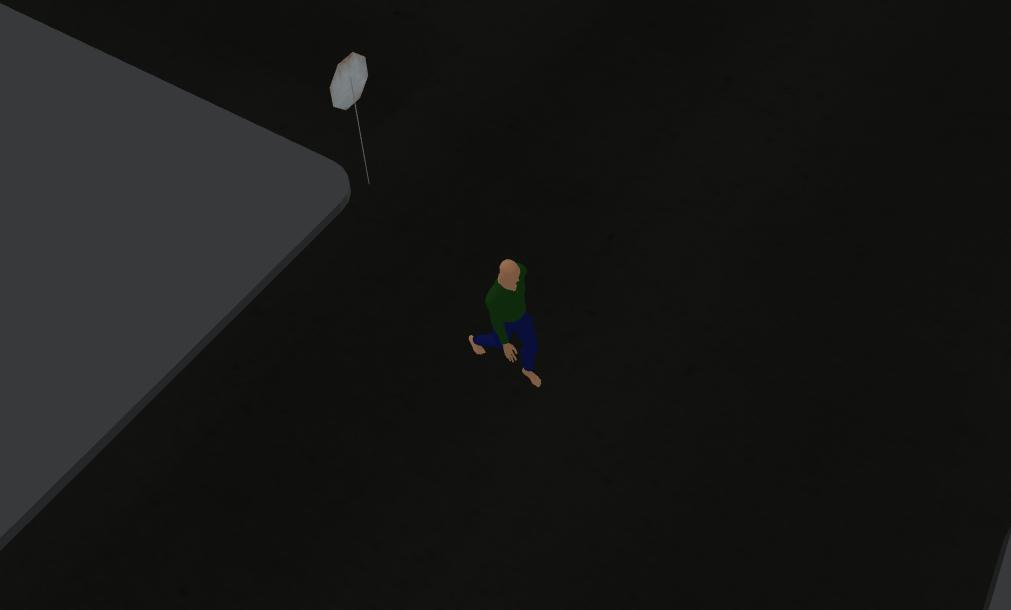human: (467, 263, 576, 389)
street sign: (322, 50, 386, 183)
